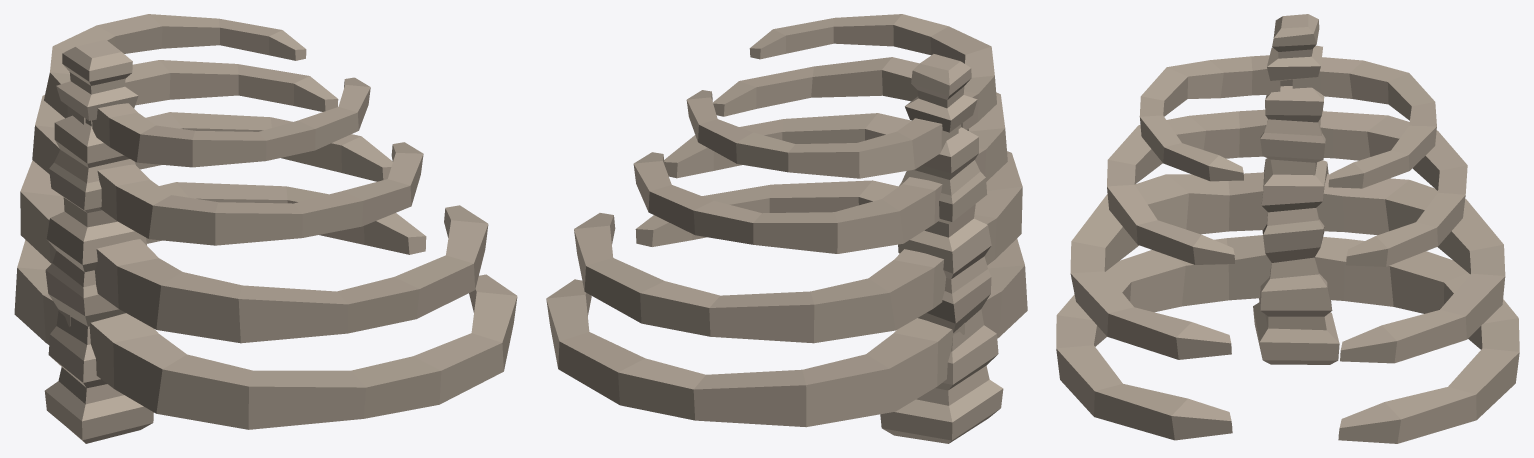
The model's file is BoneChest.fbx.
3 views of the same model, side by side, from view 1: azimuth 30°, elevation 25°; view 2: azimuth 150°, elevation 25°; view 3: azimuth 270°, elevation 25° (orthographic). The views are drawn at different scales.
Parts seen in each view (by area): view 1: Chest; view 2: Chest; view 3: Chest.
Boxes of the visible parts, box(x1,y1,x2,y2) form: Chest: box(14, 14, 517, 443); Chest: box(546, 14, 1027, 443); Chest: box(1056, 14, 1519, 443).
Bounding box in the file's own units: 1.03 × 0.9499 × 1.2.
